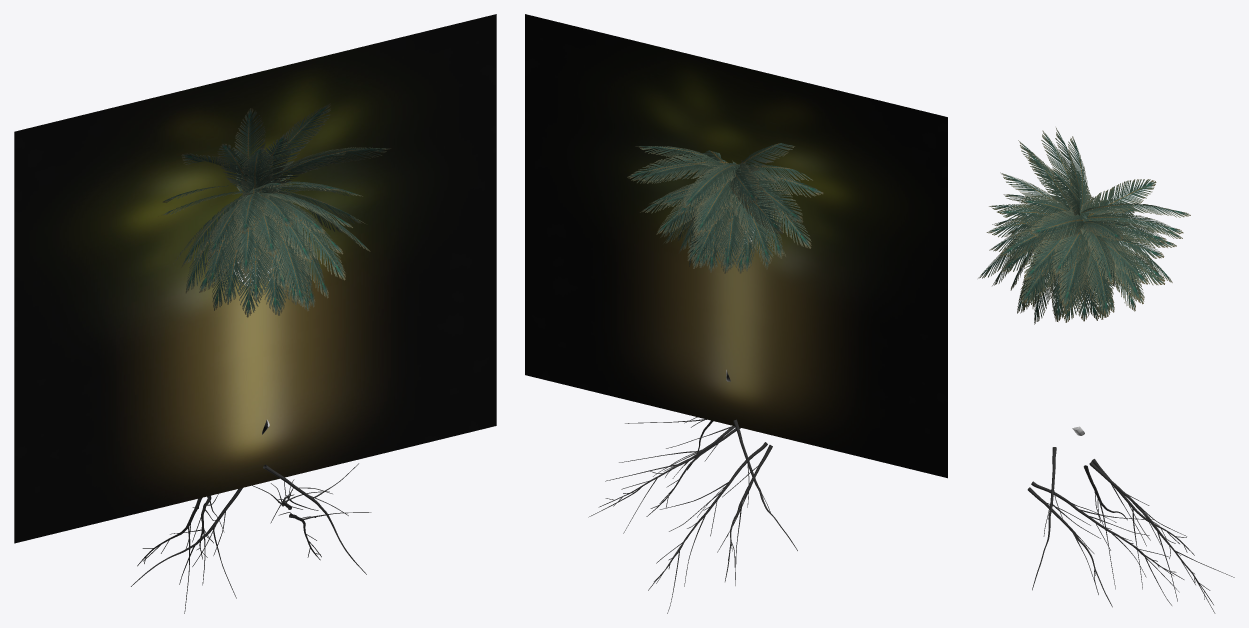
3 views of the same model, side by side, from view 1: azimuth 30°, elevation 25°; view 2: azimuth 150°, elevation 25°; view 3: azimuth 270°, elevation 25° (orthographic). The views are drawn at different scales.
Visible parts, largest first — view 1: glow, leafs, roots-1, roots-2; view 2: glow, leafs, roots-1, roots-2; view 3: leafs, roots-2, roots-1.
Part boxes in pixels (bbox=[...]): glow: bbox=[14, 14, 496, 543]; leafs: bbox=[162, 103, 390, 317]; roots-1: bbox=[131, 488, 242, 613]; roots-2: bbox=[252, 463, 371, 574]; glow: bbox=[525, 14, 947, 478]; leafs: bbox=[627, 143, 823, 273]; roots-1: bbox=[648, 419, 797, 613]; roots-2: bbox=[588, 417, 740, 533]; leafs: bbox=[978, 128, 1190, 324]; roots-2: bbox=[1027, 447, 1184, 607]; roots-1: bbox=[1083, 459, 1234, 613].
Bounding box in the file's own units: 2.68 × 3.02 × 1.43.
Materials: 5 (4 with a texture image).
